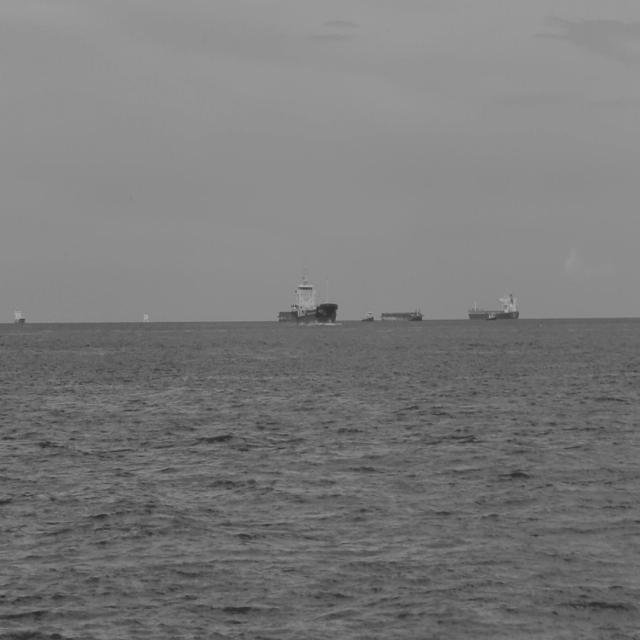ship: (279, 270, 338, 328), (466, 292, 519, 326), (378, 309, 422, 327), (9, 308, 23, 329)
